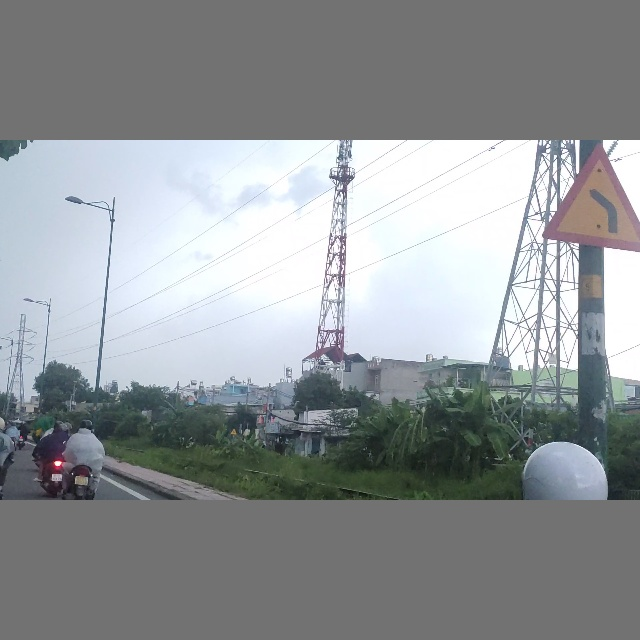W.201a: (543, 143, 640, 254)
